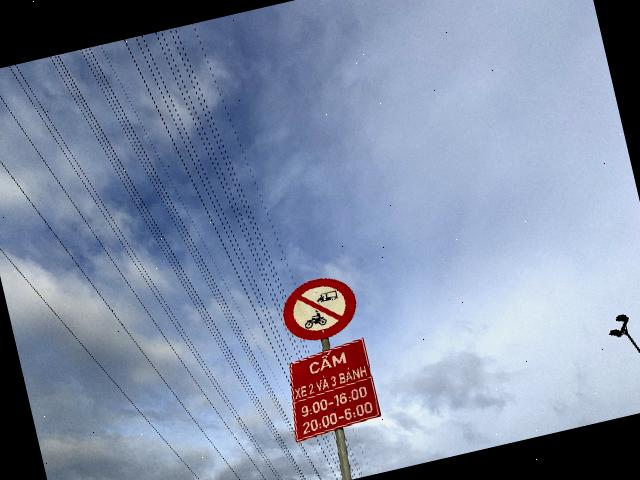cam-xe-2-banh-3-banh: (276, 270, 363, 347)
